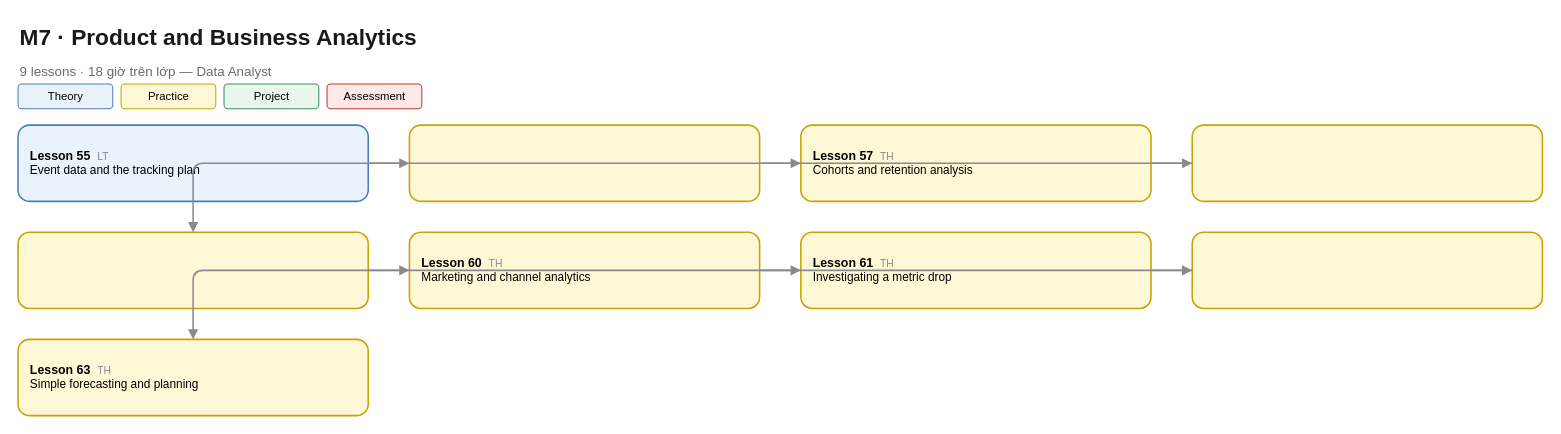
The diagram is 1561 pixels wide and 434 high, and some of its shapes have lost their labels. The box of each missing label's shape, as (x1, y1, x2, y2) in pixels:
Lesson 56 TH Conversion funnel analysis: (408, 124, 760, 202)
Lesson 58 TH Customer segmentation and RFM: (1191, 124, 1543, 202)
Lesson 59 TH Revenue and commerce analytics: (17, 231, 369, 309)
Lesson 62 TH Descriptive time series analysis: (1191, 231, 1543, 309)
